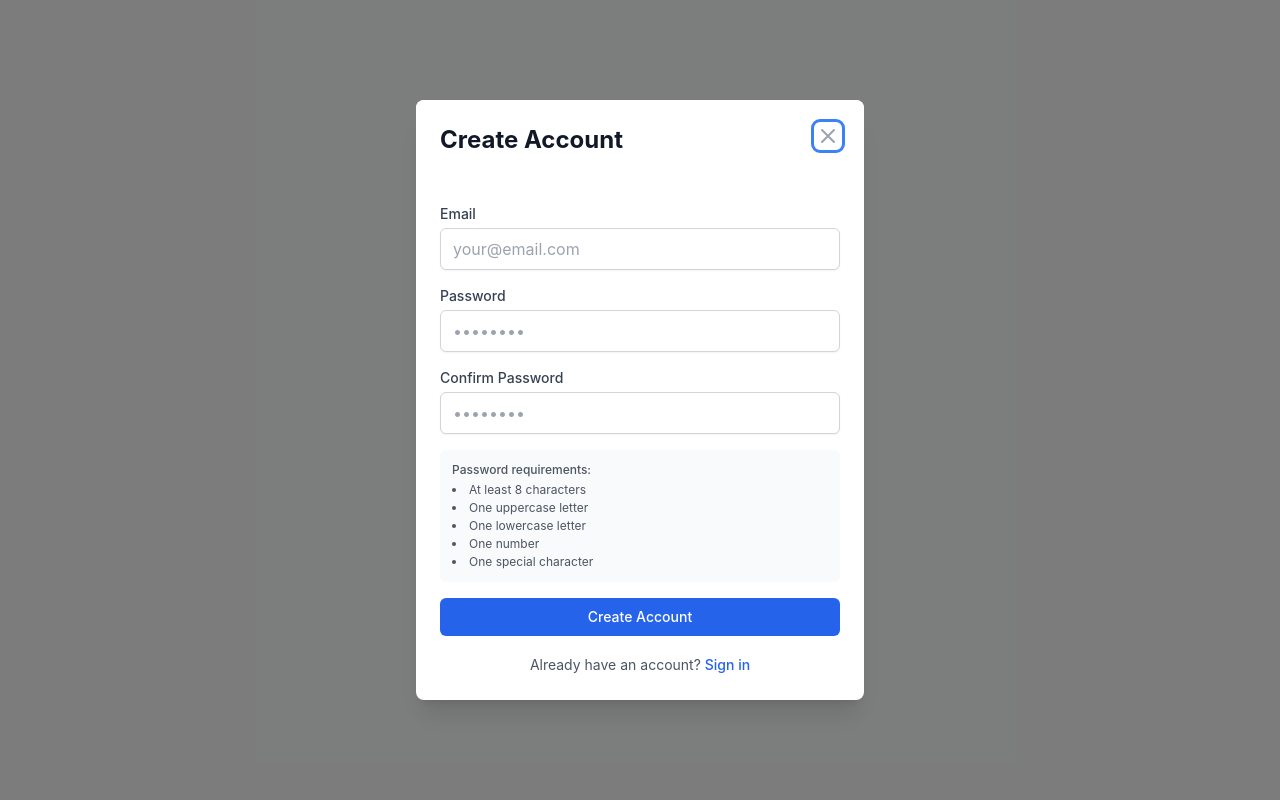
Scenario: AuthModal › Sign Up Form › should validate password match
Type "test@example.com" into the field labelled "Email".
click(640, 249); type("test@example.com")  # box [440,228,840,270]
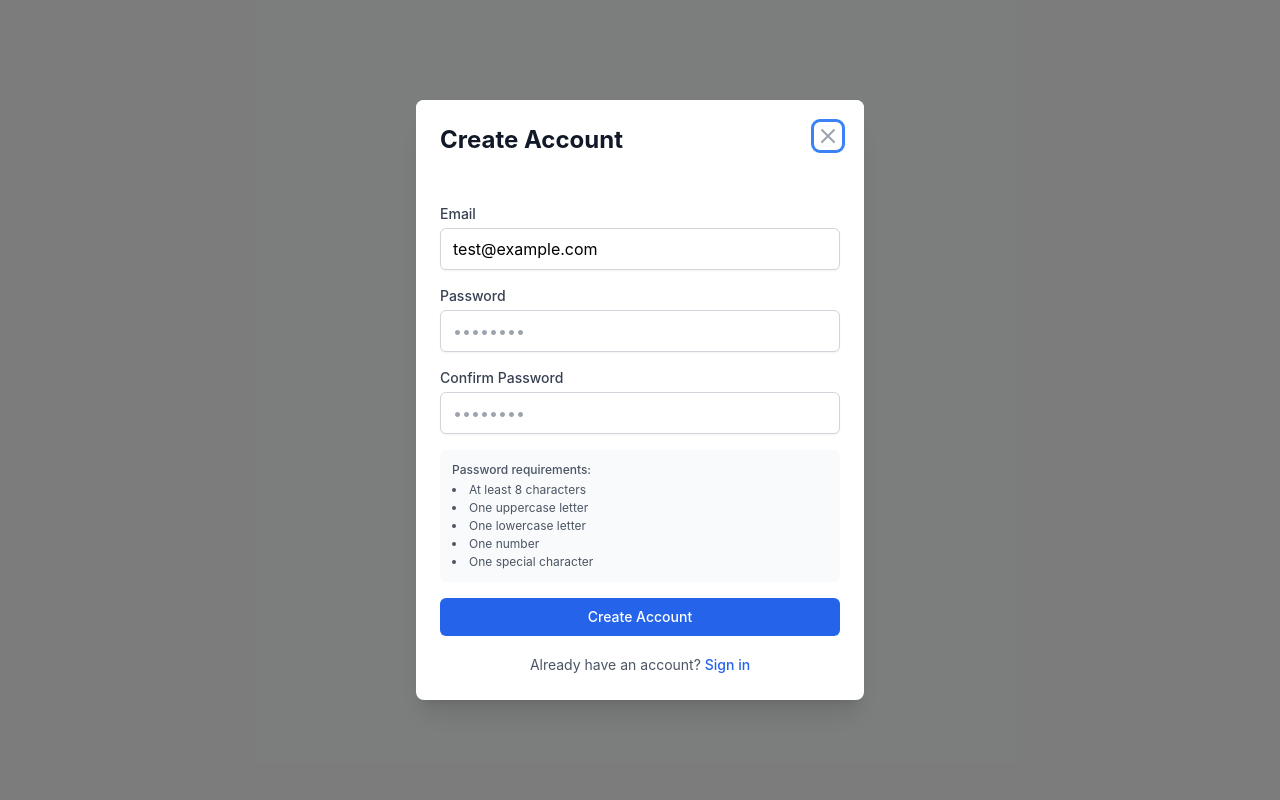
Type "Password123!" into the password field labelled "Password".
click(640, 331); type("Password123!")  # box [440,310,840,352]
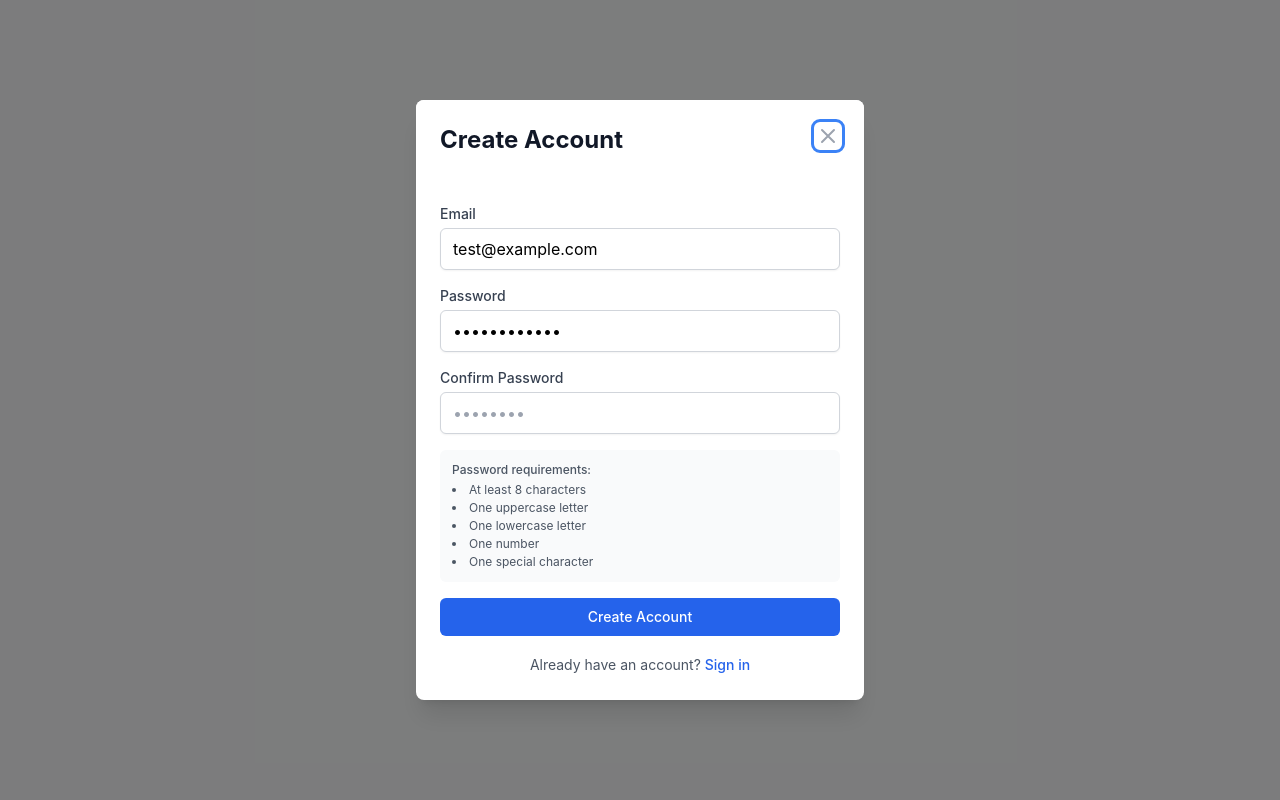
Type "DifferentPassword123!" into the password field labelled "Confirm Password".
click(640, 413); type("DifferentPassword123!")  # box [440,392,840,434]
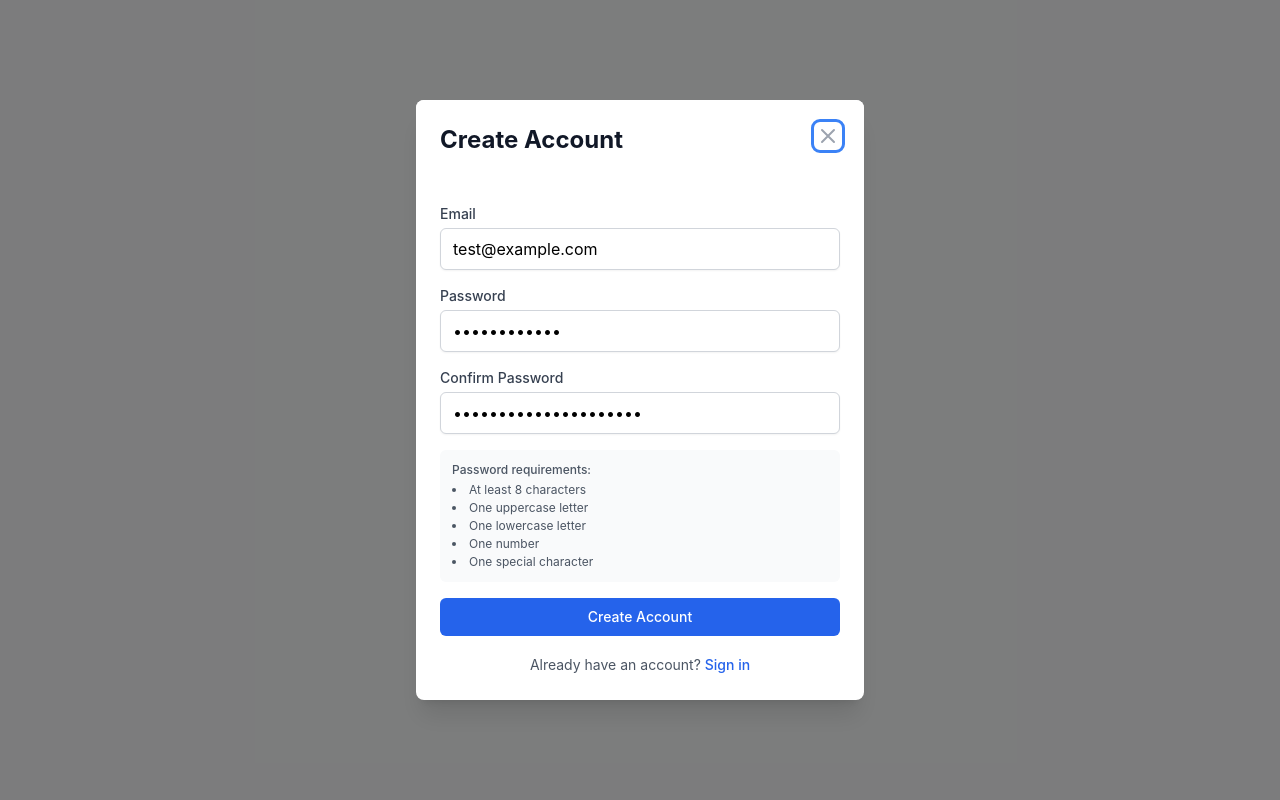
Click the button "Create Account".
click(640, 617)  # box [440,598,840,636]
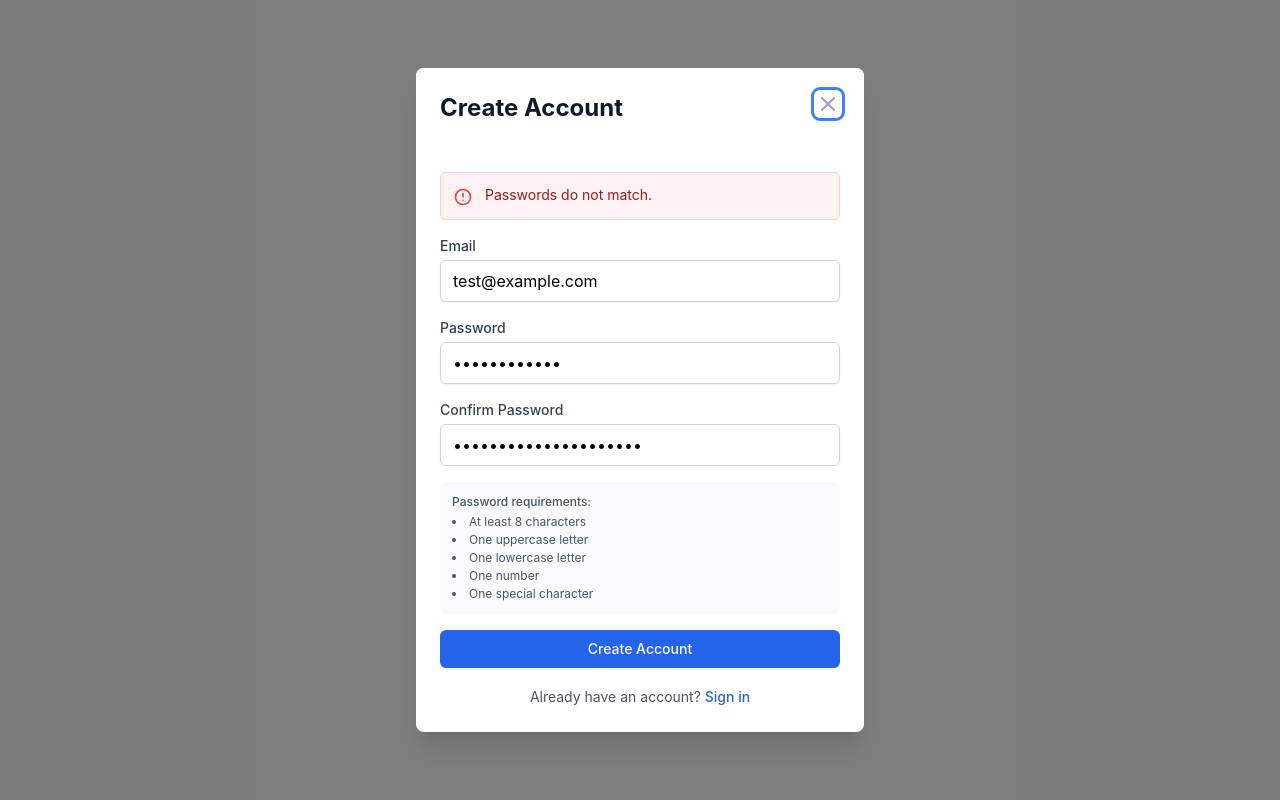
Expected: the text "Passwords do not match." is shown, [485,185,652,205]
